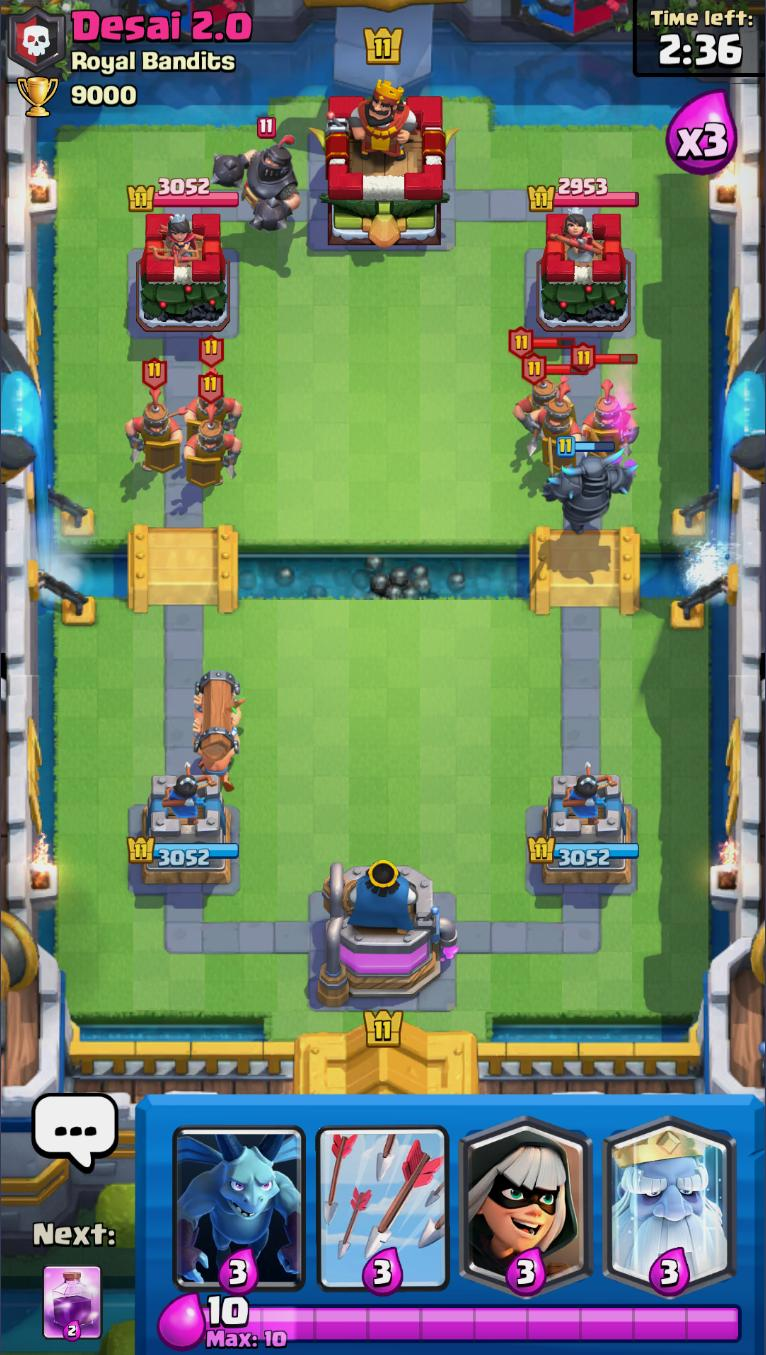ArrowDeck: (311, 1099, 454, 1296)
BanditDeck: (456, 1096, 597, 1294)
Elixir: (201, 1296, 741, 1351)
EnemyTower: (136, 211, 234, 331), (538, 209, 632, 333), (129, 178, 239, 212), (529, 178, 640, 211)
KingTower: (311, 79, 459, 246)
MegaKnight: (210, 116, 301, 231)
MinionsDeck: (164, 1096, 313, 1294)
MyBattleRam: (191, 668, 245, 793)
MyKingTower: (317, 860, 460, 1007)
MyPekka: (543, 435, 641, 535)
MyPrincessTower: (129, 771, 240, 889), (531, 773, 639, 889)
MyPrincessTowerHP: (126, 836, 241, 867), (531, 835, 640, 866)
PrincessTower: (550, 211, 605, 264), (149, 213, 204, 264)
RageNext: (41, 1263, 103, 1343)
RoyalRecruit: (521, 351, 590, 468), (572, 345, 640, 456), (126, 358, 184, 474), (181, 373, 239, 489), (509, 326, 571, 429), (184, 335, 241, 442)
RoyaleGhostDeck: (599, 1094, 741, 1296)
